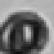correct: (0, 6, 50, 54)
